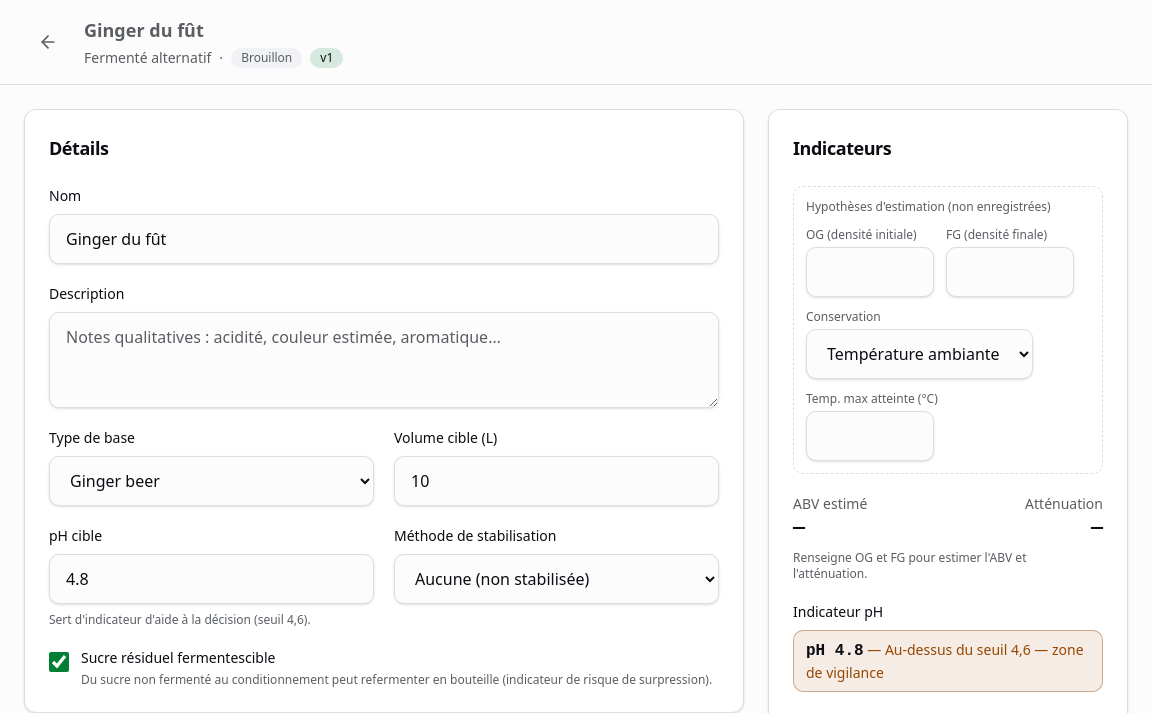
Test: éditeur ALT — indicateurs sécurité (ADR-11) › le statut pH suit le seuil 4,6 du core (acide sous le seuil)
This screenshot has width=1152, height=713.
Replace the text in the number field labelled "pH cible" with "4.2" at (212, 579), box [49,554,374,604]
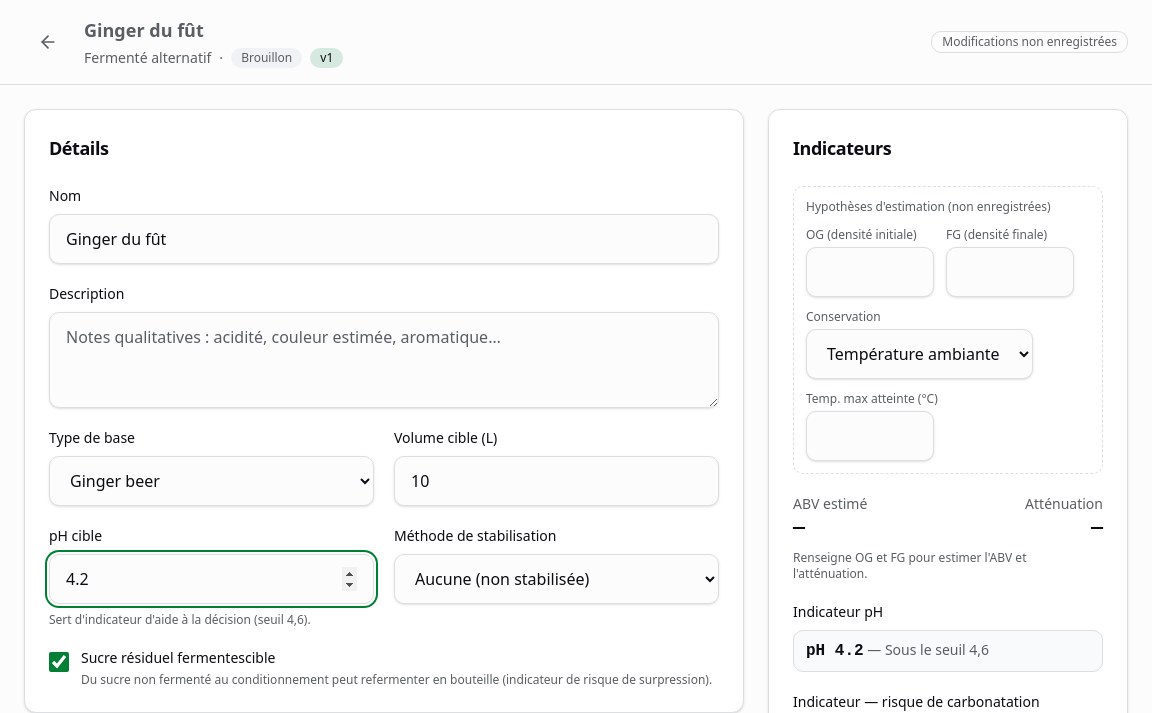
Check: the text with test id "alt-ph-status" shows "Sous le seuil", box [885,640,989,659]
